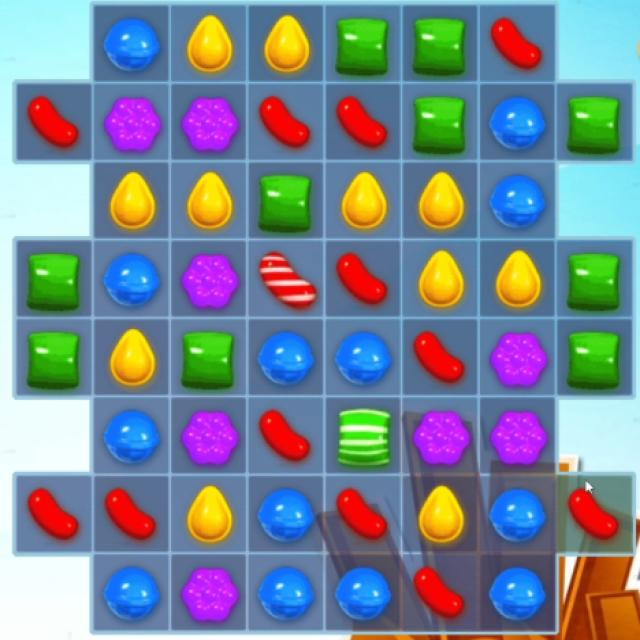blue: (91, 396, 172, 476), (478, 161, 558, 240), (246, 474, 325, 554), (480, 554, 559, 633), (247, 317, 325, 397), (479, 82, 556, 162), (481, 476, 558, 556), (324, 552, 401, 631), (247, 555, 326, 632), (92, 241, 170, 318), (93, 555, 170, 632), (94, 5, 170, 82), (327, 319, 402, 397)
green: (323, 4, 402, 86), (170, 317, 248, 397), (556, 318, 635, 396), (17, 316, 94, 396), (249, 160, 325, 241), (402, 6, 480, 84), (557, 82, 632, 162), (400, 85, 478, 161), (327, 398, 403, 476), (17, 238, 92, 316), (558, 240, 630, 320)
purple: (478, 318, 556, 398), (479, 396, 556, 475), (94, 82, 170, 162), (171, 396, 247, 476), (402, 398, 479, 475), (170, 554, 248, 630), (170, 85, 247, 161), (171, 242, 246, 317)
red: (324, 474, 402, 556), (15, 82, 94, 161), (402, 317, 480, 397), (246, 84, 324, 162), (93, 475, 170, 554), (402, 554, 478, 634), (18, 475, 93, 556), (325, 84, 402, 162), (248, 241, 325, 318), (324, 242, 402, 318), (558, 476, 634, 554), (481, 6, 558, 82), (248, 399, 326, 474)
yellow: (168, 161, 250, 242), (402, 238, 480, 320), (169, 476, 248, 554), (403, 474, 479, 555), (94, 319, 171, 398), (325, 162, 402, 240), (247, 5, 323, 84), (171, 6, 247, 84), (95, 162, 170, 240), (482, 240, 557, 318), (404, 162, 478, 239)
